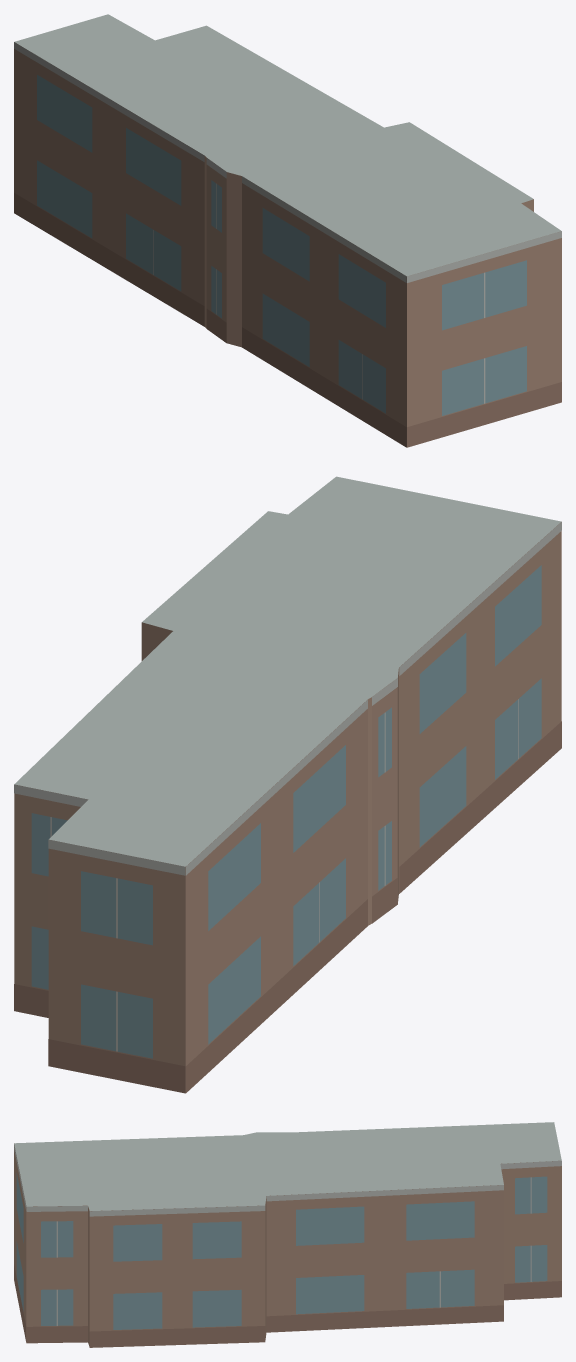
File: survey-upis-32621815.glb
3 renders of one model, top to bottom at view 1: azimuth 30°, elevation 25°; view 2: azimuth 150°, elevation 25°; view 3: azimuth 270°, elevation 25°, orthographic. The views are drawn at different scales.
Parts seen in each view (by area): view 1: survey-upis-32621815.tmp; view 2: survey-upis-32621815.tmp; view 3: survey-upis-32621815.tmp.
Boxes of the visible parts, <box> form: survey-upis-32621815.tmp: <box>14,14,561,447</box>; survey-upis-32621815.tmp: <box>14,476,561,1093</box>; survey-upis-32621815.tmp: <box>14,1122,561,1347</box>.
Bounding box in the file's own units: 8.54 × 6.1 × 22.17.
